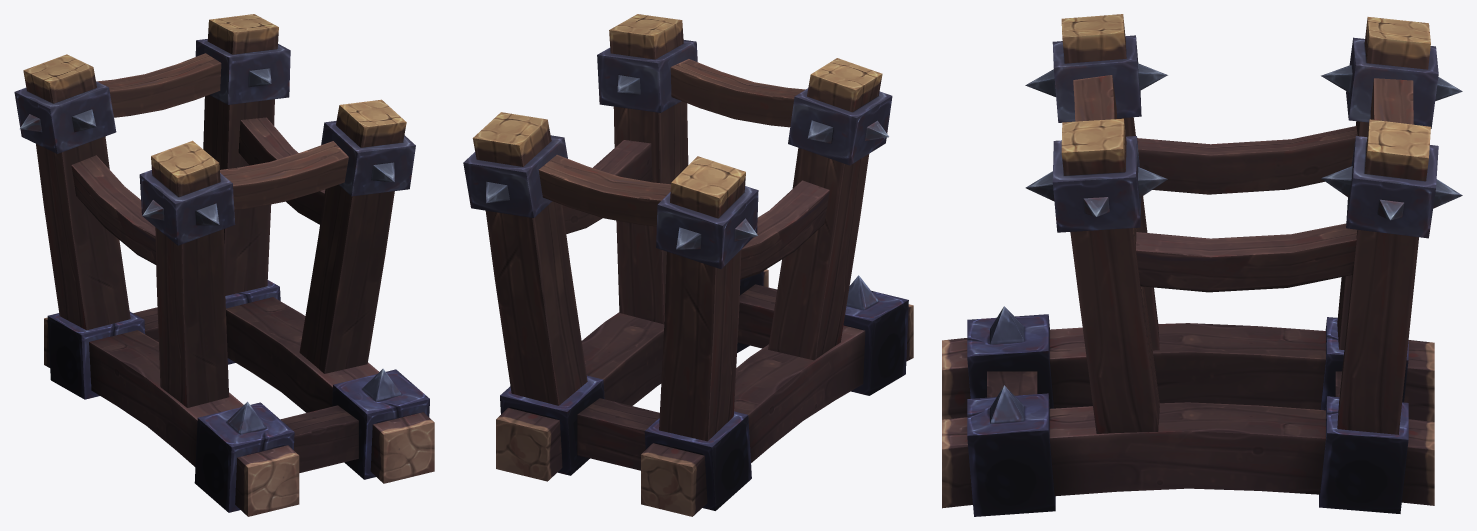
File: battering ram_base.fbx
The picture shows the model from 3 angles, left to right: view 1: azimuth 30°, elevation 25°; view 2: azimuth 150°, elevation 25°; view 3: azimuth 270°, elevation 25°; orthographic projection. The views are drawn at different scales.
Visible parts, largest first — view 1: battering_ram_base; view 2: battering_ram_base; view 3: battering_ram_base.
Part boxes in pixels (x1,y1,x2,y2): battering_ram_base: [14, 14, 434, 516]; battering_ram_base: [463, 14, 913, 516]; battering_ram_base: [942, 14, 1462, 516].
Size of the model in its own units: 1.88 by 2.12 by 2.61.
